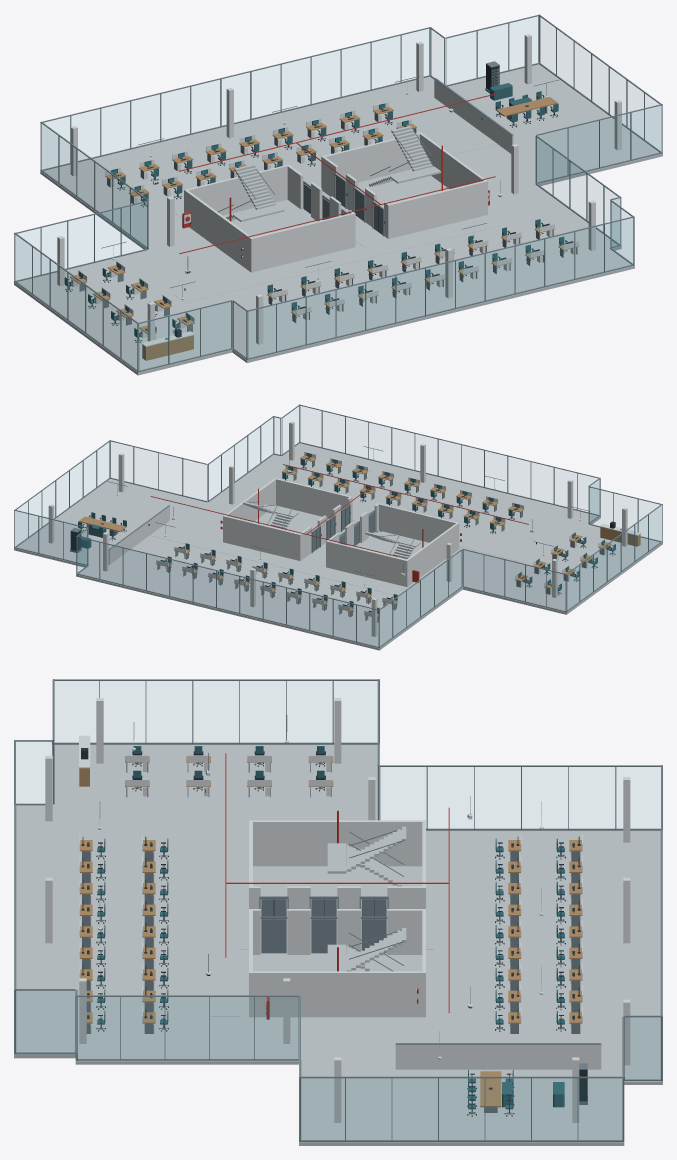
3 views of the same model, one above another, from view 1: azimuth 30°, elevation 25°; view 2: azimuth 150°, elevation 25°; view 3: azimuth 270°, elevation 25° (orthographic). The views are drawn at different scales.
Parts seen in each view (by area): view 1: T1_F10_SLAB, T1_F10_WHITE, T1_F10_GLASS_S, T1_F10_GLASS_N, T1_F10_STEEL, T1_F10_GLASS_W, T1_F10_GLASS_E, T1_F10_WOOD, T1_F10_FABRIC, T1_F10_DARK, T1_F10_RED, T1_F10_SCREEN; view 2: T1_F10_SLAB, T1_F10_WHITE, T1_F10_GLASS_N, T1_F10_STEEL, T1_F10_GLASS_S, T1_F10_GLASS_W, T1_F10_GLASS_E, T1_F10_WOOD, T1_F10_FABRIC, T1_F10_DARK, T1_F10_RED; view 3: T1_F10_SLAB, T1_F10_WHITE, T1_F10_GLASS_E, T1_F10_GLASS_W, T1_F10_STEEL, T1_F10_WOOD, T1_F10_DARK, T1_F10_FABRIC, T1_F10_RED.
Part boxes in pixels (x1,y1,x2,y2): T1_F10_SLAB: [14, 64, 662, 375]; T1_F10_WHITE: [57, 34, 621, 346]; T1_F10_GLASS_S: [140, 106, 660, 370]; T1_F10_GLASS_N: [19, 17, 538, 267]; T1_F10_STEEL: [14, 14, 662, 372]; T1_F10_GLASS_W: [15, 125, 245, 369]; T1_F10_GLASS_E: [431, 18, 657, 243]; T1_F10_WOOD: [70, 97, 579, 360]; T1_F10_FABRIC: [64, 83, 565, 337]; T1_F10_DARK: [65, 64, 573, 342]; T1_F10_RED: [179, 93, 496, 258]; T1_F10_SCREEN: [79, 75, 501, 319]; T1_F10_SLAB: [14, 443, 662, 650]; T1_F10_WHITE: [48, 421, 641, 636]; T1_F10_GLASS_N: [15, 512, 564, 646]; T1_F10_STEEL: [14, 404, 662, 648]; T1_F10_GLASS_S: [110, 406, 657, 527]; T1_F10_GLASS_W: [380, 480, 661, 645]; T1_F10_GLASS_E: [18, 408, 298, 536]; T1_F10_WOOD: [78, 455, 640, 616]; T1_F10_FABRIC: [78, 459, 615, 613]; T1_F10_DARK: [70, 453, 615, 613]; T1_F10_RED: [150, 464, 528, 582]; T1_F10_SLAB: [14, 744, 662, 1145]; T1_F10_WHITE: [45, 698, 630, 1122]; T1_F10_GLASS_E: [16, 991, 660, 1139]; T1_F10_GLASS_W: [16, 681, 660, 828]; T1_F10_STEEL: [14, 679, 662, 1141]; T1_F10_WOOD: [79, 756, 582, 1107]; T1_F10_DARK: [81, 748, 587, 1116]; T1_F10_FABRIC: [97, 746, 564, 1109]; T1_F10_RED: [225, 753, 449, 1019].
Size of the model in its own units: 55.47 by 4.5 by 38.19.
